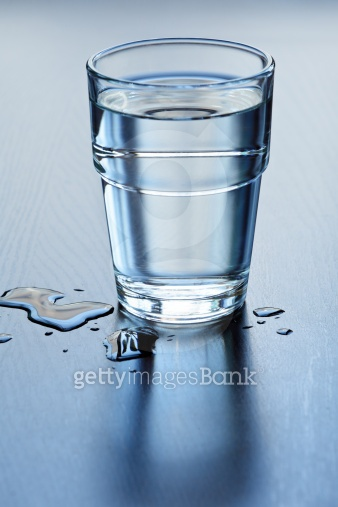glass of water: (82, 32, 290, 344)
